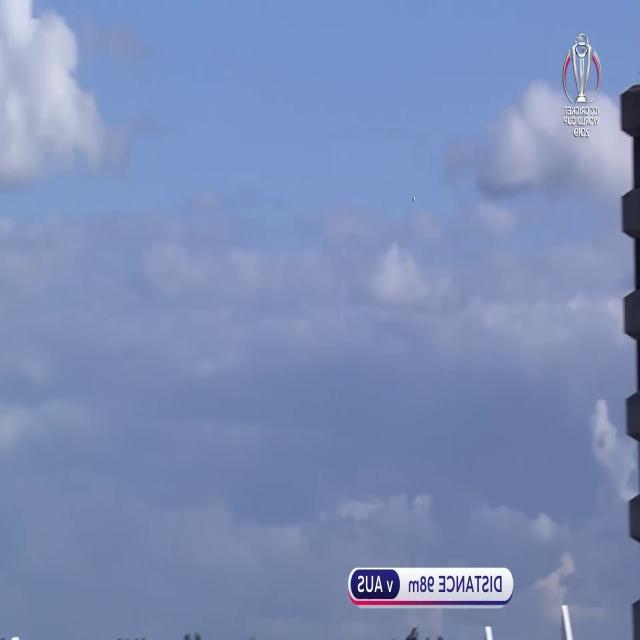ball: (410, 194, 417, 203)
